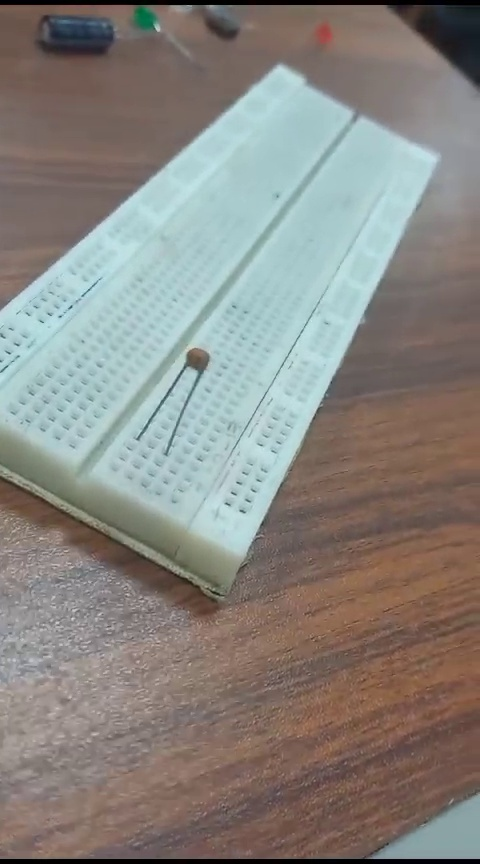ceramic capacitor: (138, 341, 210, 463)
